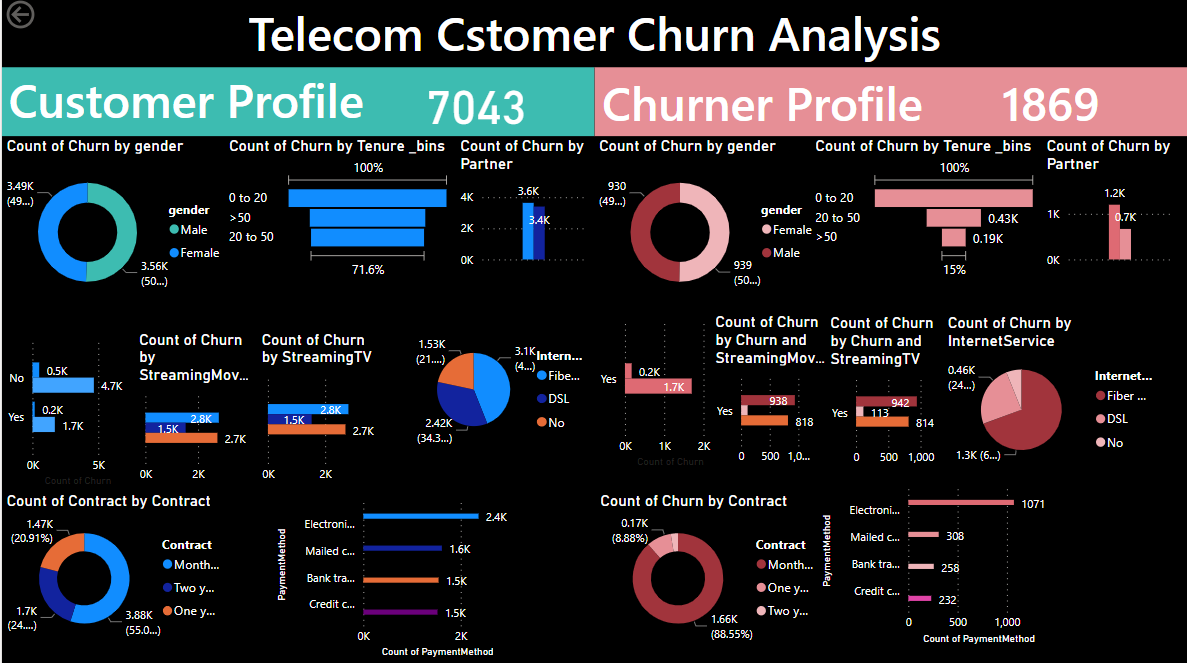

The page's visual inventory and layout, read from the dashboard file:
{"tool":"powerbi","page":{"name":"Summary Report","canvas":[1280,720],"ordinal":0},"visuals":[{"type":"shape","box":[0,0,1280,77],"z":0},{"type":"shape","box":[0,77,640,74.3],"z":1},{"type":"shape","box":[640,77,640,74.3],"z":2},{"type":"donutChart","fields":{"Category":["telco churn.gender"],"Y":["CountNonNull(telco churn.Churn)"]},"box":[0,151.2,249.8,189],"z":3},{"type":"card","fields":{"Values":["CountNonNull(telco churn.Churn)"]},"box":[405.1,63.5,214.7,101.3],"z":4},{"type":"actionButton","box":[0,0,100,40],"z":6},{"type":"shape","box":[1037,77,191.7,74.3],"z":7},{"type":"donutChart","fields":{"Category":["telco churn.gender"],"Y":["CountNonNull(telco churn.Churn)"]},"box":[640,151.2,249.8,189],"z":8},{"type":"clusteredBarChart","fields":{"Series":["telco churn.PhoneService"],"Y":["CountNonNull(telco churn.Churn)"],"Category":["telco churn.Churn"]},"box":[0,360.5,143.1,174.2],"z":9},{"type":"clusteredBarChart","fields":{"Y":["CountNonNull(telco churn.Churn)"],"Series":["telco churn.StreamingMovies"]},"box":[143.1,360.5,132.3,174.2],"z":10},{"type":"clusteredBarChart","fields":{"Y":["CountNonNull(telco churn.Churn)"],"Series":["telco churn.StreamingTV"]},"box":[275.4,360.5,140.4,174.2],"z":11},{"type":"pieChart","fields":{"Category":["telco churn.InternetService"],"Y":["CountNonNull(telco churn.InternetService)"]},"box":[437.5,340.3,202.5,170.1],"z":12},{"type":"funnel","fields":{"Category":["telco churn.Tenure _bins"],"Y":["CountNonNull(telco churn.Churn)"]},"box":[240.3,151.2,249.8,158],"z":13},{"type":"clusteredColumnChart","fields":{"Series":["telco churn.Partner"],"Y":["CountNonNull(telco churn.Churn)"]},"box":[490.1,151.2,145.8,147.2],"z":14},{"type":"donutChart","fields":{"Y":["CountNonNull(telco churn.Contract)"],"Category":["telco churn.Contract"]},"box":[0,534.7,249.8,170.1],"z":15},{"type":"clusteredBarChart","fields":{"Category":["telco churn.PaymentMethod"],"Series":["telco churn.PaymentMethod"],"Y":["CountNonNull(telco churn.PaymentMethod)"]},"box":[291.6,534.7,271.4,185],"z":16},{"type":"funnel","fields":{"Category":["telco churn.Tenure _bins"],"Y":["CountNonNull(telco churn.Churn)"]},"box":[873.6,151.2,249.8,158],"z":17},{"type":"clusteredColumnChart","fields":{"Series":["telco churn.Partner"],"Y":["CountNonNull(telco churn.Churn)"]},"box":[1123.4,151.2,145.8,147.2],"z":18},{"type":"clusteredBarChart","fields":{"Series":["telco churn.PhoneService"],"Y":["CountNonNull(telco churn.Churn)"],"Category":["telco churn.Churn"]},"box":[640,340.3,143.1,174.2],"z":19},{"type":"clusteredBarChart","fields":{"Y":["CountNonNull(telco churn.Churn)"],"Category":["telco churn.Churn"],"Series":["telco churn.StreamingMovies"]},"box":[765.6,341.6,132.3,174.2],"z":20},{"type":"clusteredBarChart","fields":{"Y":["CountNonNull(telco churn.Churn)"],"Category":["telco churn.Churn"],"Series":["telco churn.StreamingTV"]},"box":[889.8,343,140.4,174.2],"z":21},{"type":"pieChart","title":"Count of Churn by InternetService","fields":{"Category":["telco churn.InternetService"],"Y":["CountNonNull(telco churn.InternetService)"]},"box":[1016.7,343,237.6,170.1],"z":22},{"type":"donutChart","title":"Count of Churn by Contract","fields":{"Y":["CountNonNull(telco churn.Contract)"],"Category":["telco churn.Contract"]},"box":[641.4,534.7,249.8,170.1],"z":23},{"type":"clusteredBarChart","fields":{"Category":["telco churn.PaymentMethod"],"Series":["telco churn.PaymentMethod"],"Y":["CountNonNull(telco churn.PaymentMethod)"]},"box":[880.3,519.8,271.4,185],"z":24}]}

Visuals, with their boxes in screenshot pixels (x1, y1, x2, y2), scaled from the page's 1280x720 canvas onto the 1187x663 screenshot:
shape: region(0, 0, 1186, 71)
shape: region(0, 71, 594, 139)
shape: region(594, 71, 1186, 139)
donutChart - telco churn.gender x CountNonNull(telco churn.Churn): region(0, 139, 232, 313)
card - CountNonNull(telco churn.Churn): region(376, 58, 575, 152)
actionButton: region(0, 0, 93, 37)
shape: region(962, 71, 1139, 139)
donutChart - telco churn.gender x CountNonNull(telco churn.Churn): region(594, 139, 825, 313)
clusteredBarChart - telco churn.PhoneService x CountNonNull(telco churn.Churn): region(0, 332, 133, 492)
clusteredBarChart - CountNonNull(telco churn.Churn) x telco churn.StreamingMovies: region(133, 332, 255, 492)
clusteredBarChart - CountNonNull(telco churn.Churn) x telco churn.StreamingTV: region(255, 332, 386, 492)
pieChart - telco churn.InternetService x CountNonNull(telco churn.InternetService): region(406, 313, 594, 470)
funnel - telco churn.Tenure _bins x CountNonNull(telco churn.Churn): region(223, 139, 454, 285)
clusteredColumnChart - telco churn.Partner x CountNonNull(telco churn.Churn): region(454, 139, 590, 275)
donutChart - CountNonNull(telco churn.Contract) x telco churn.Contract: region(0, 492, 232, 649)
clusteredBarChart - telco churn.PaymentMethod x telco churn.PaymentMethod: region(270, 492, 522, 662)
funnel - telco churn.Tenure _bins x CountNonNull(telco churn.Churn): region(810, 139, 1042, 285)
clusteredColumnChart - telco churn.Partner x CountNonNull(telco churn.Churn): region(1042, 139, 1177, 275)
clusteredBarChart - telco churn.PhoneService x CountNonNull(telco churn.Churn): region(594, 313, 726, 474)
clusteredBarChart - CountNonNull(telco churn.Churn) x telco churn.Churn: region(710, 315, 833, 475)
clusteredBarChart - CountNonNull(telco churn.Churn) x telco churn.Churn: region(825, 316, 955, 476)
"Count of Churn by InternetService" pieChart: region(943, 316, 1163, 472)
"Count of Churn by Contract" donutChart: region(595, 492, 826, 649)
clusteredBarChart - telco churn.PaymentMethod x telco churn.PaymentMethod: region(816, 479, 1068, 649)
